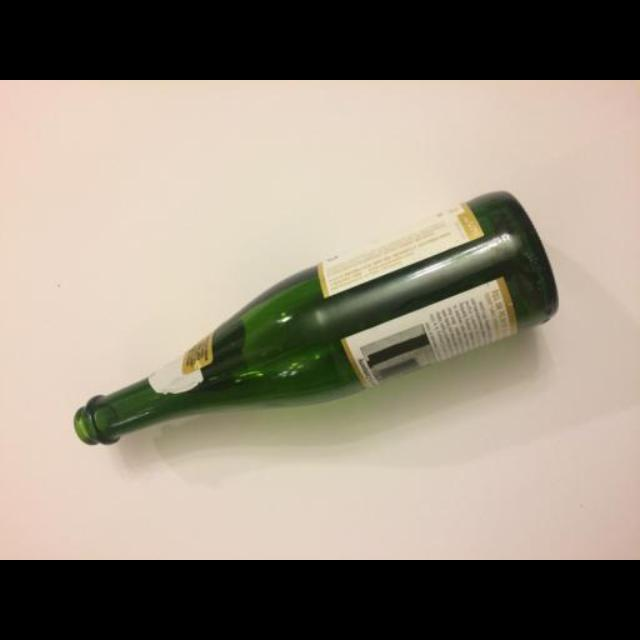garrafa de vidro: (75, 189, 555, 443)
